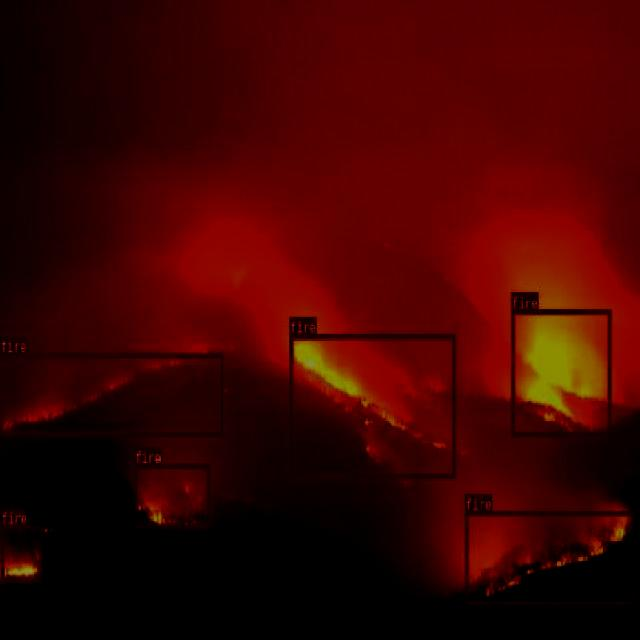fire: (290, 333, 456, 478), (0, 352, 222, 436), (464, 510, 634, 604), (512, 308, 610, 436), (133, 464, 210, 528), (0, 524, 43, 584)
